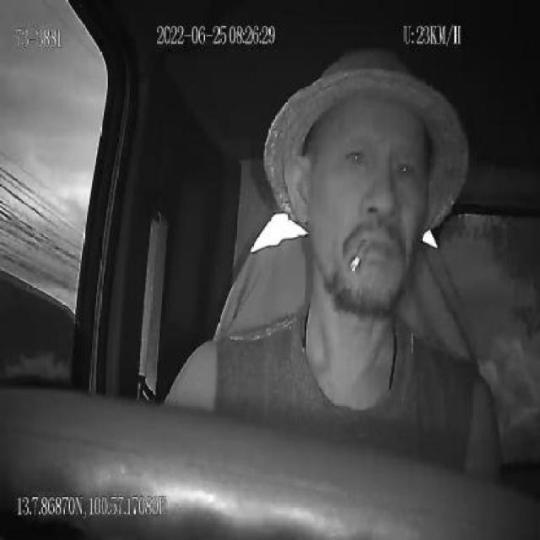smoking: (350, 239, 374, 272)
